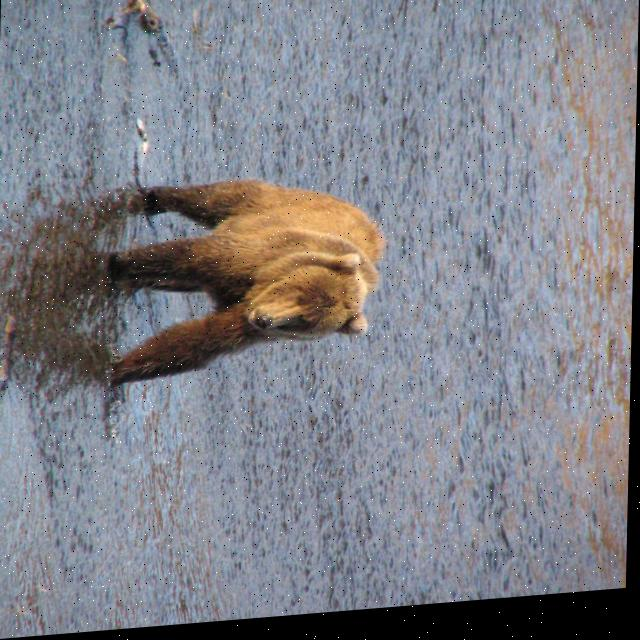bear face: (126, 175, 387, 380)
